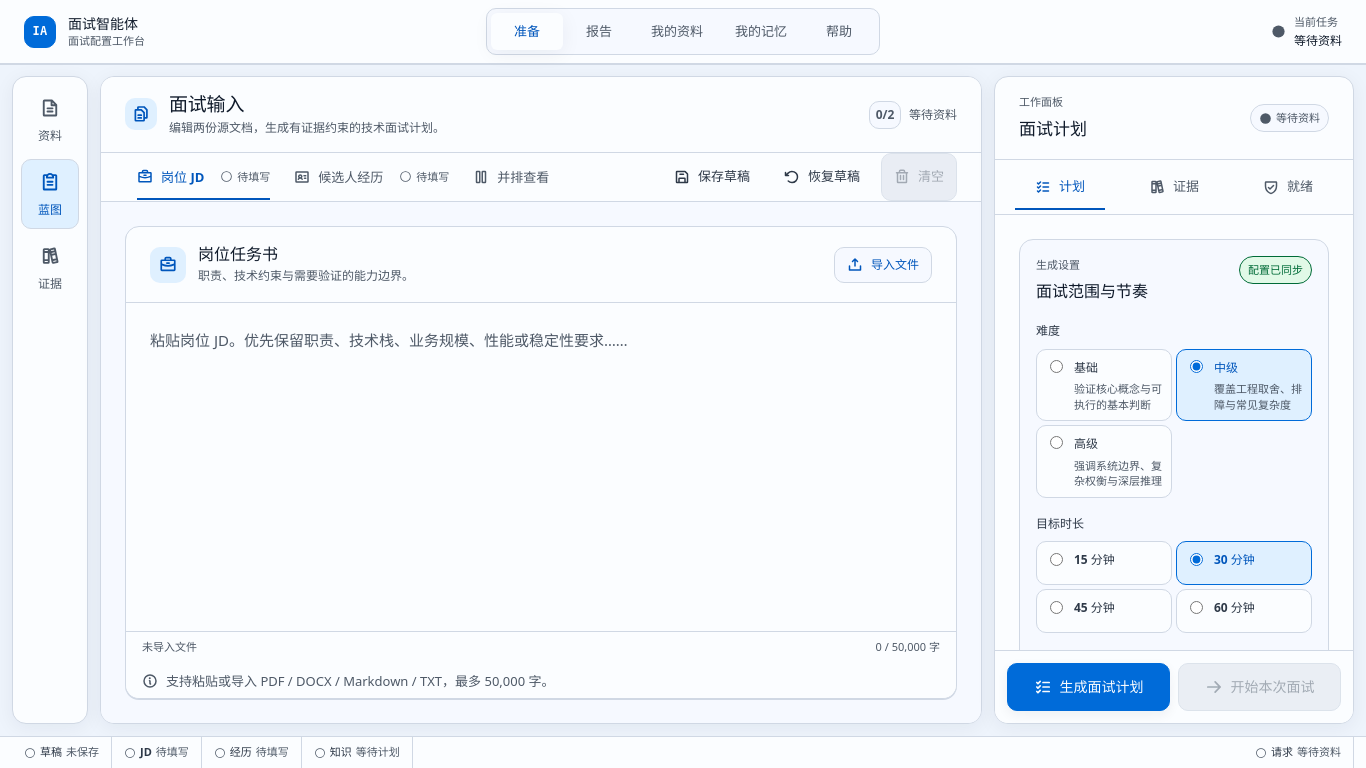
Scenario: StartPage editable plan workflow › shows every material state but only allows Ready and Enabled items
Click the tab "就绪".
click(1288, 187)  # box [1231,164,1345,210]
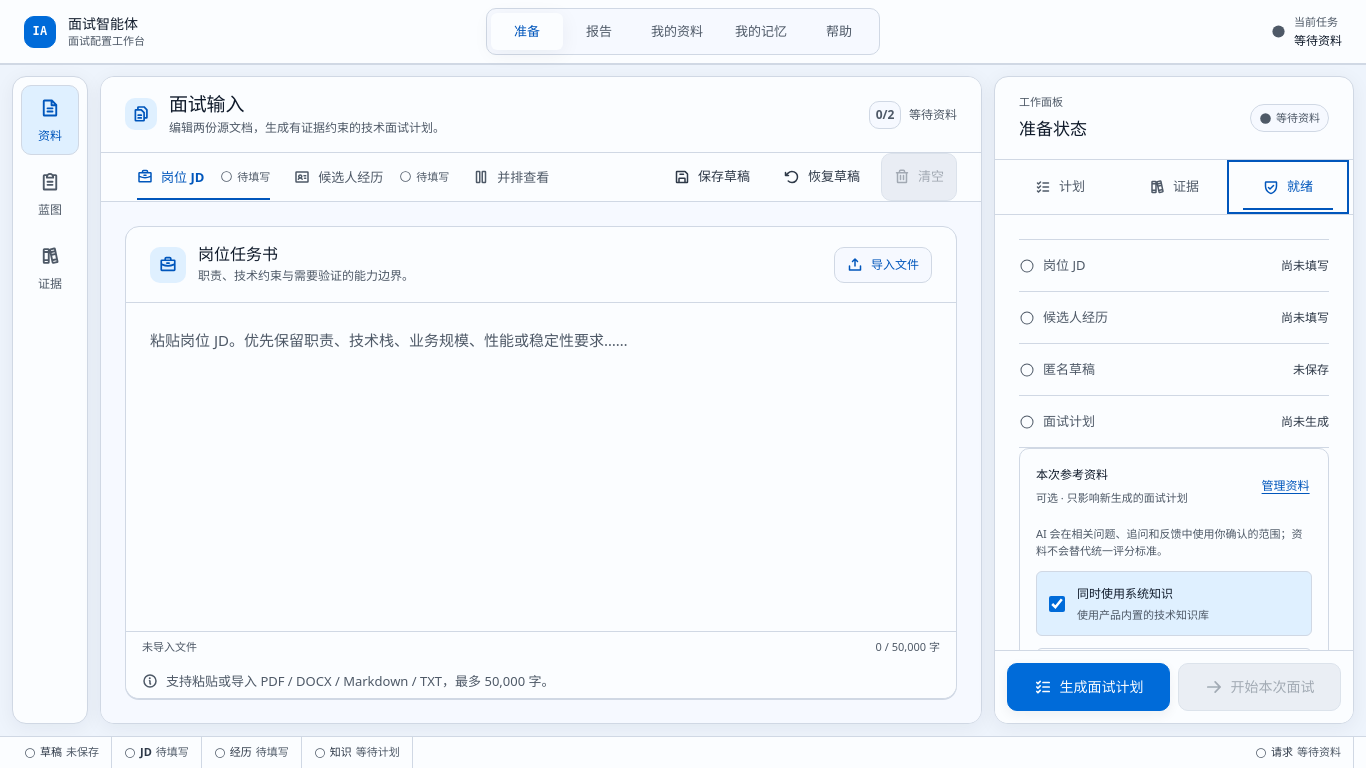
Now the checkbox labelled "同时使用系统知识 使用产品内置的技术知识库" is checked, box [1049,596,1065,612]
